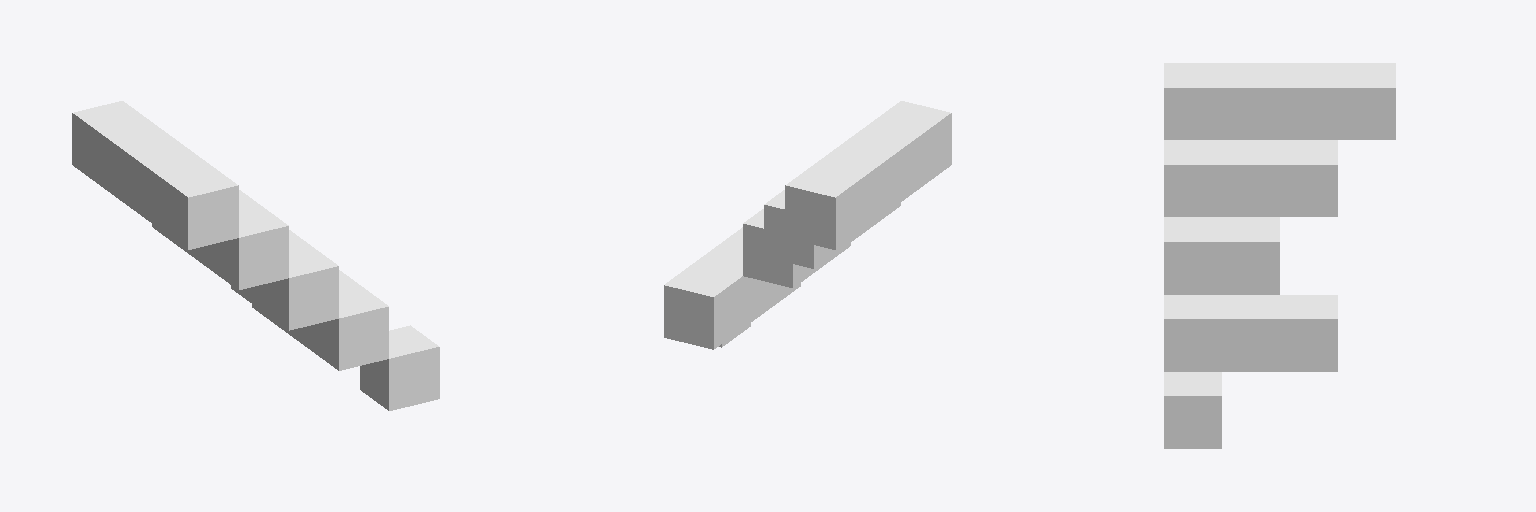
Rendered from YellowHouseParts-85.obj.
3 renders of one model, left to right at view 1: azimuth 30°, elevation 25°; view 2: azimuth 150°, elevation 25°; view 3: azimuth 270°, elevation 25°, orthographic.
Visible parts, largest first — view 1: object 1; view 2: object 1; view 3: object 1.
Part boxes in pixels (x1,y1,x2,y2): object 1: (72, 101, 439, 410); object 1: (664, 101, 951, 349); object 1: (1164, 63, 1395, 448).
Size of the model in its own units: 0.5 by 0.5 by 0.4.